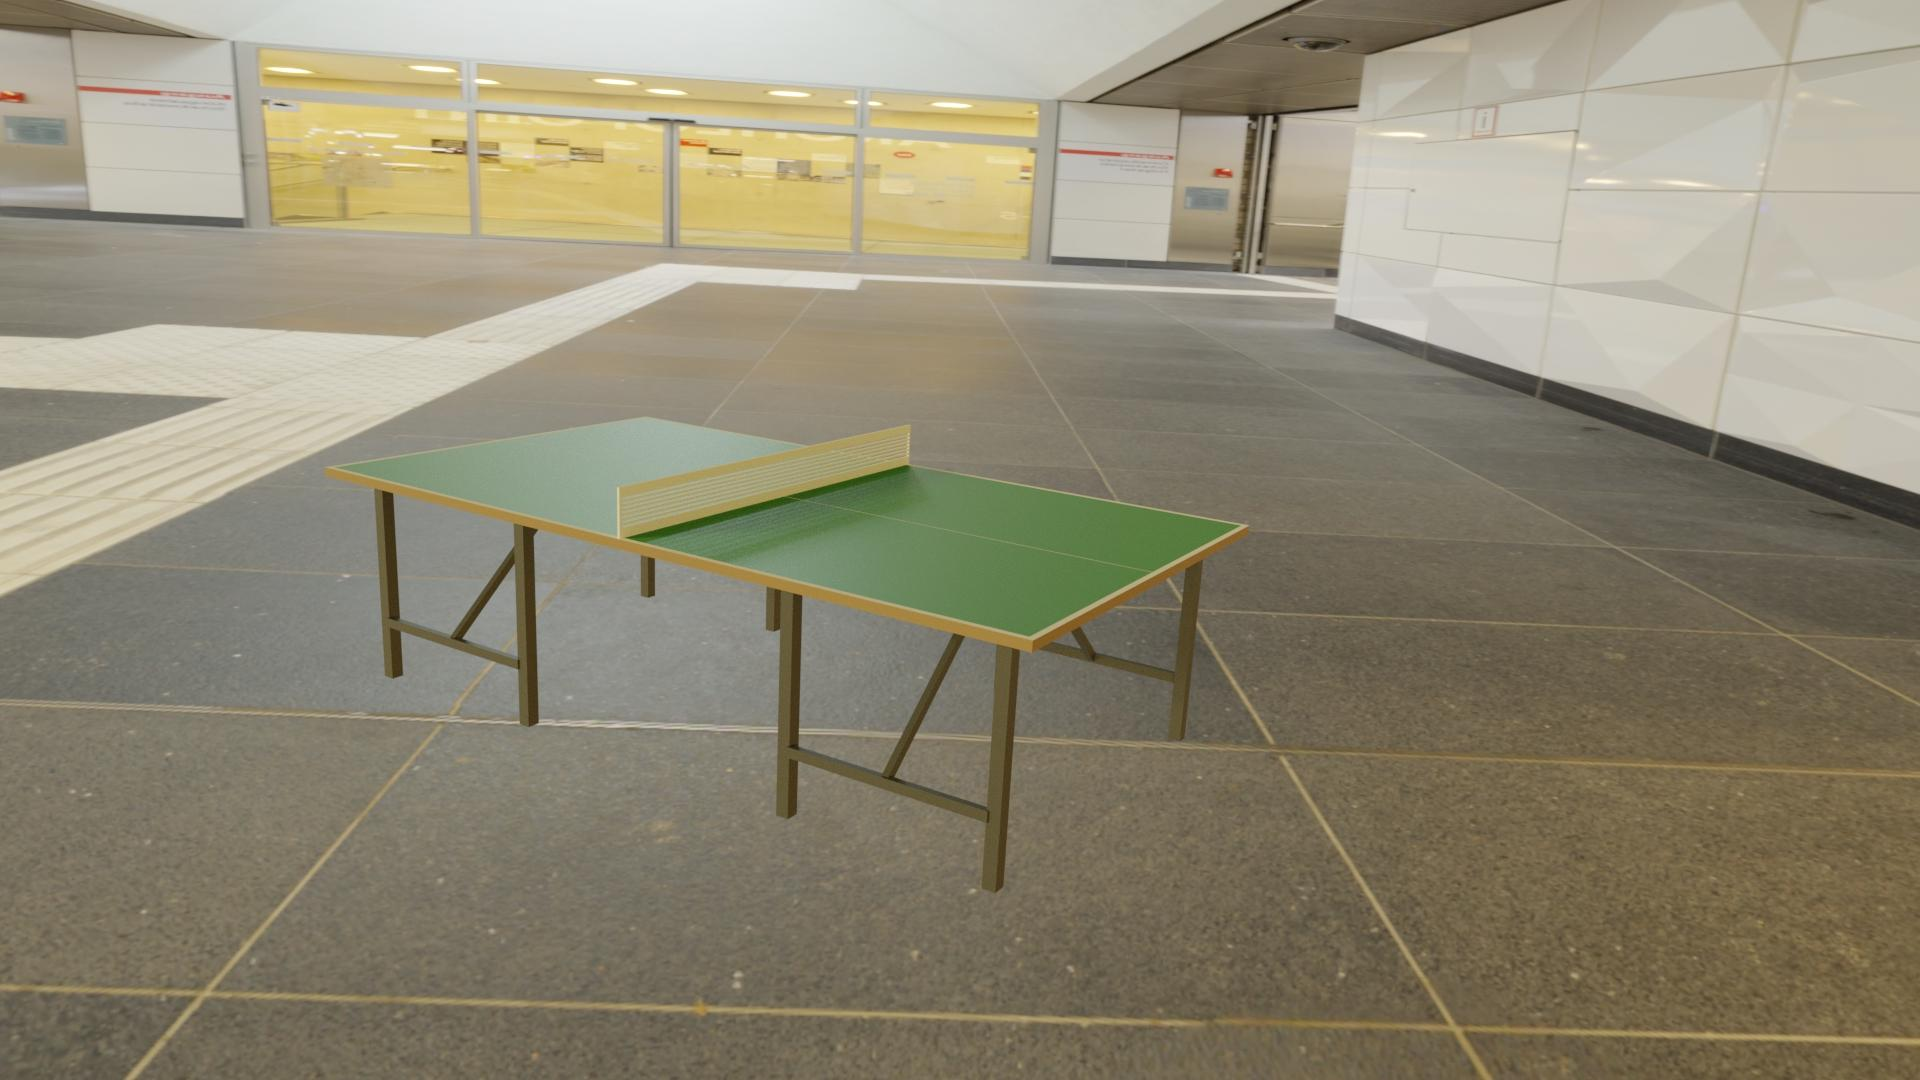table: (334, 418, 1242, 637)
